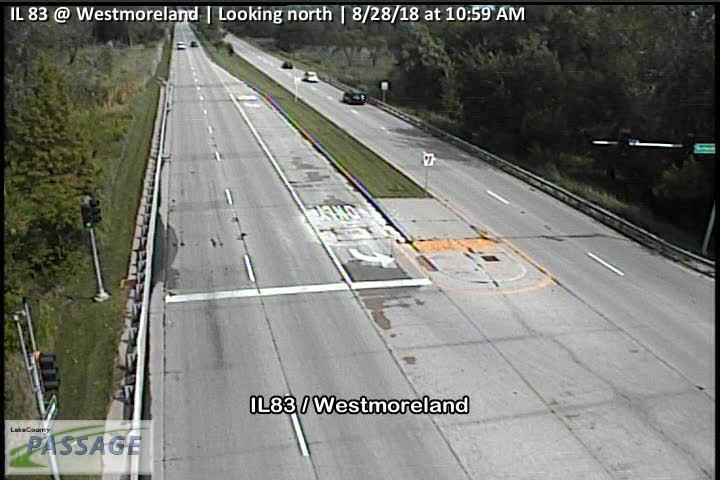SUV: (343, 90, 366, 105), (304, 70, 319, 82)
Sedan: (283, 62, 293, 69)
